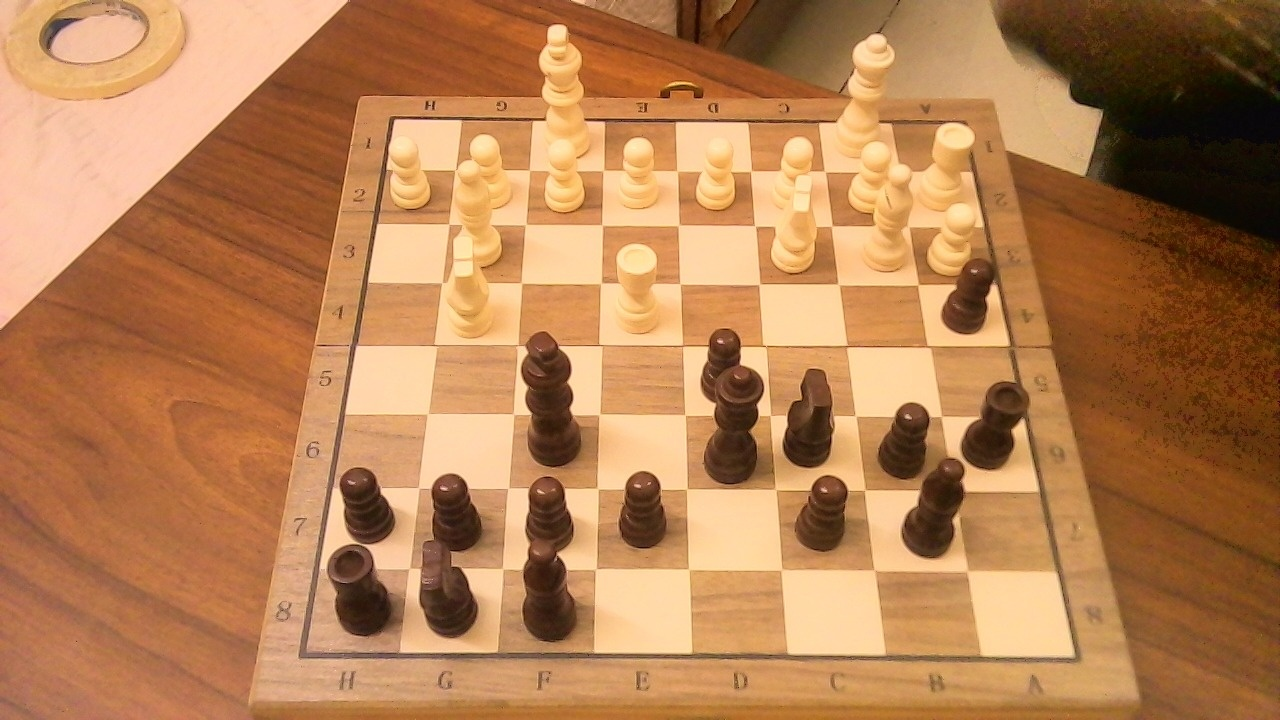B: (854, 154, 923, 278), (448, 149, 513, 274)
K: (534, 13, 598, 162)
N: (763, 163, 830, 278), (440, 233, 500, 342)
P: (841, 132, 905, 219), (923, 193, 986, 278), (458, 126, 518, 213), (764, 128, 822, 215), (688, 127, 744, 216), (611, 128, 668, 215), (535, 129, 591, 217), (382, 129, 437, 211)
Q: (831, 21, 900, 164)
R: (917, 111, 984, 216), (606, 232, 669, 340)
b: (897, 445, 979, 564), (509, 539, 589, 645)
k: (517, 321, 594, 469)
n: (410, 528, 491, 641), (780, 354, 848, 470)
p: (331, 456, 405, 544), (607, 459, 677, 551), (937, 247, 1006, 339), (693, 320, 753, 405), (880, 400, 942, 480), (432, 473, 482, 552), (522, 477, 576, 550), (803, 475, 853, 550)
q: (697, 354, 775, 487)
r: (955, 368, 1039, 472), (323, 533, 401, 638)
